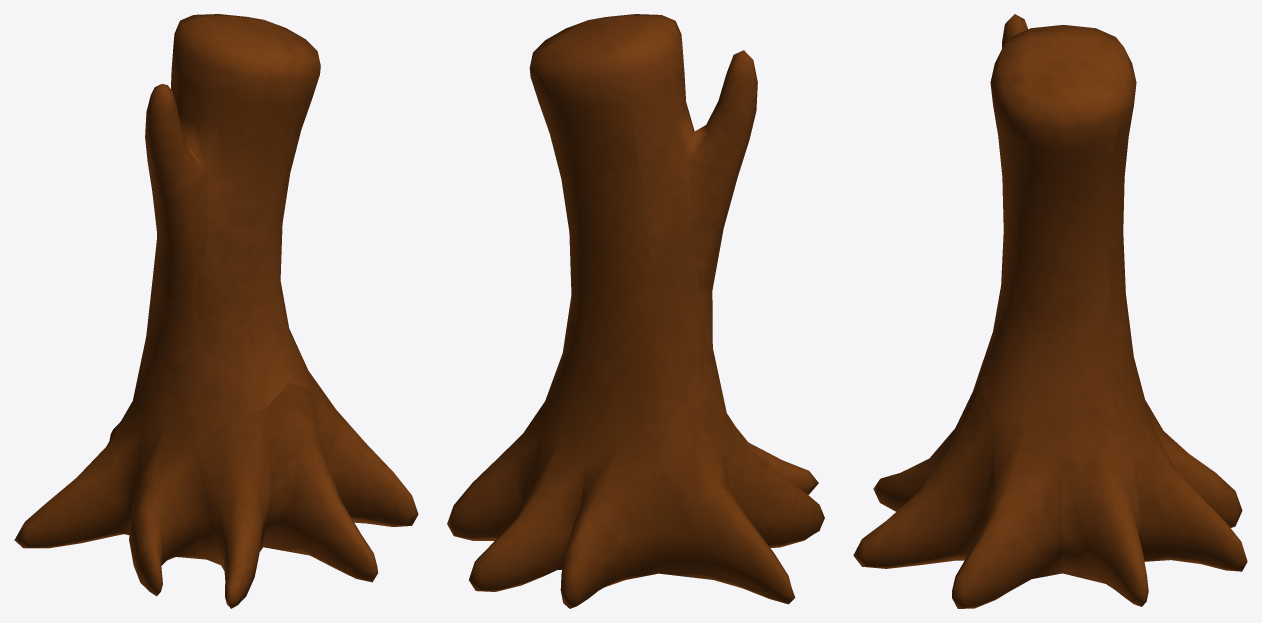
File: tree.fbx
3 views of the same model, side by side, from view 1: azimuth 30°, elevation 25°; view 2: azimuth 150°, elevation 25°; view 3: azimuth 270°, elevation 25° (orthographic). The views are drawn at different scales.
Parts seen in each view (by area): view 1: agac_1; view 2: agac_1; view 3: agac_1.
Boxes of the visible parts, <box> form: agac_1: <box>14,14,418,608</box>; agac_1: <box>447,14,824,608</box>; agac_1: <box>853,14,1247,608</box>.
Bounding box in the file's own units: 164 × 242 × 169.
